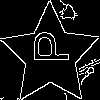P: (25, 30, 70, 64)
